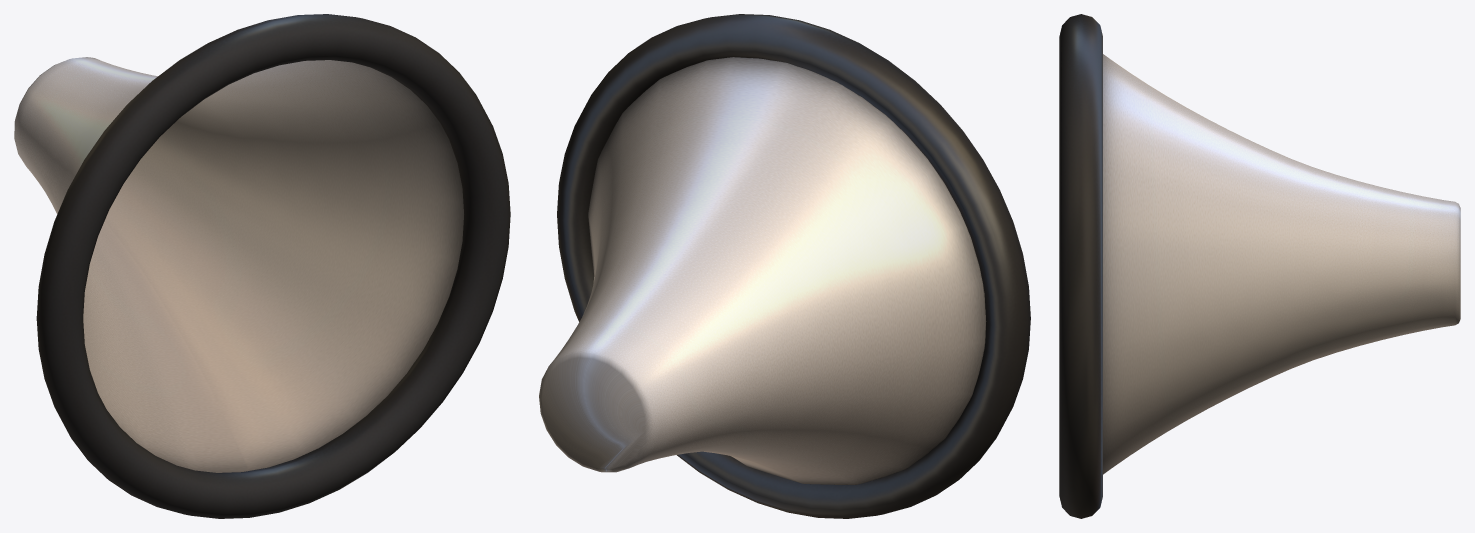
File: Megaphone_clone.fbx
3 views of the same model, side by side, from view 1: azimuth 30°, elevation 25°; view 2: azimuth 150°, elevation 25°; view 3: azimuth 270°, elevation 25° (orthographic). The views are drawn at different scales.
Visible parts, largest first — view 1: Megaphone; view 2: Megaphone; view 3: Megaphone.
Boxes of the visible parts, left/top/right/bottom form: Megaphone: left=14, top=14, right=510, bottom=518; Megaphone: left=539, top=14, right=1030, bottom=518; Megaphone: left=1059, top=14, right=1460, bottom=518.
Bounding box in the file's own units: 865 × 865 × 687.
